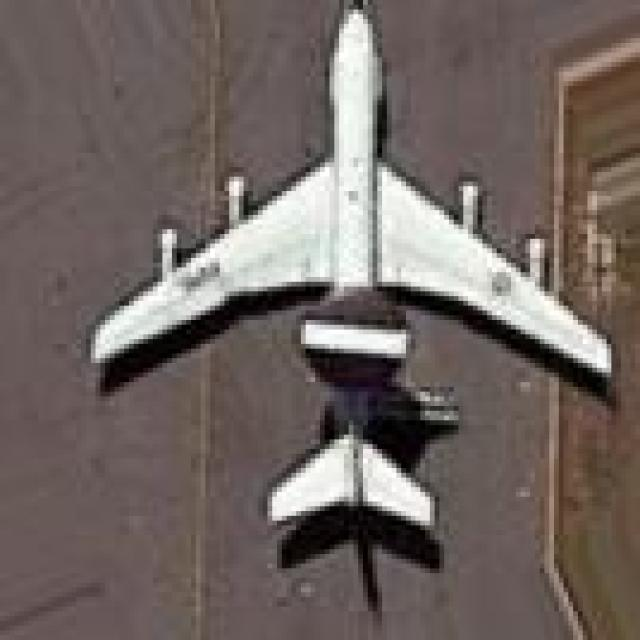E-3_TopDown: (86, 0, 616, 616)
